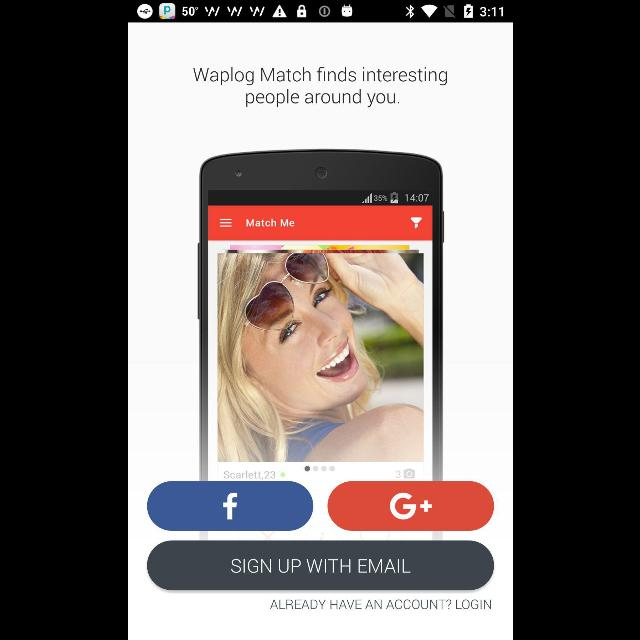image: (196, 149, 444, 481)
pageindicator: (304, 466, 334, 472)
text: (193, 66, 447, 108), (270, 600, 490, 608)
textbutton: (146, 540, 494, 590), (146, 481, 312, 531), (327, 481, 493, 531)
uppertaskbar: (128, 1, 512, 23)
